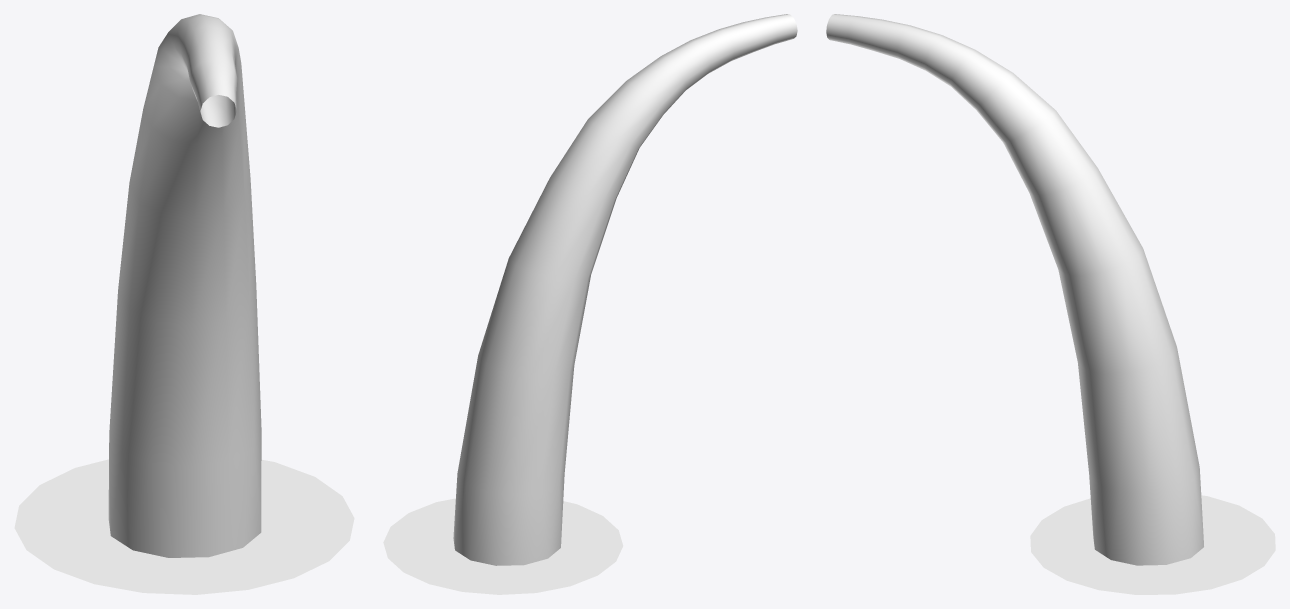
File: Waterfall.obj
3 renders of one model, left to right at view 1: azimuth 30°, elevation 25°; view 2: azimuth 150°, elevation 25°; view 3: azimuth 270°, elevation 25°, orthographic. The views are drawn at different scales.
Size of the model in its own units: 449 by 793 by 693.
2 materials, 2 textured.
